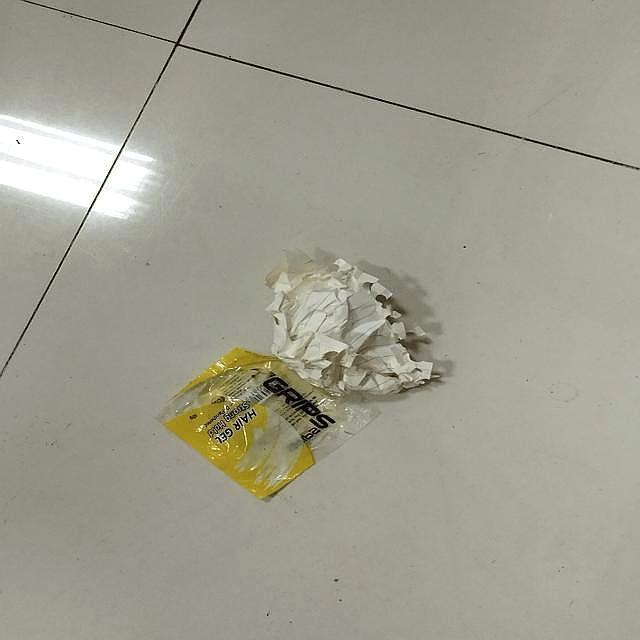Biodegradable: (216, 216, 462, 418)
Non-biodegradable: (148, 334, 386, 503)
